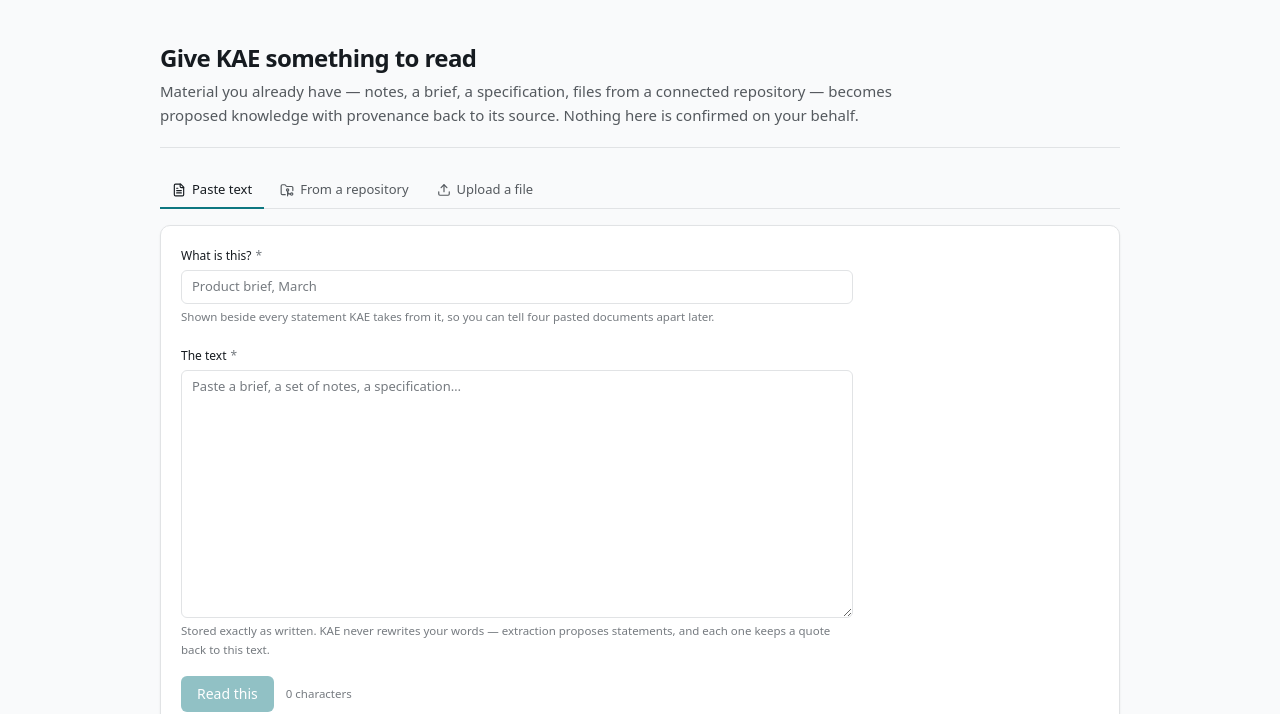
it: pasting a document › says the text is stored and the reading is not done
In the field labelled "What is this?*": point(517, 287) 181,270 -> 853,304, type "Brief"
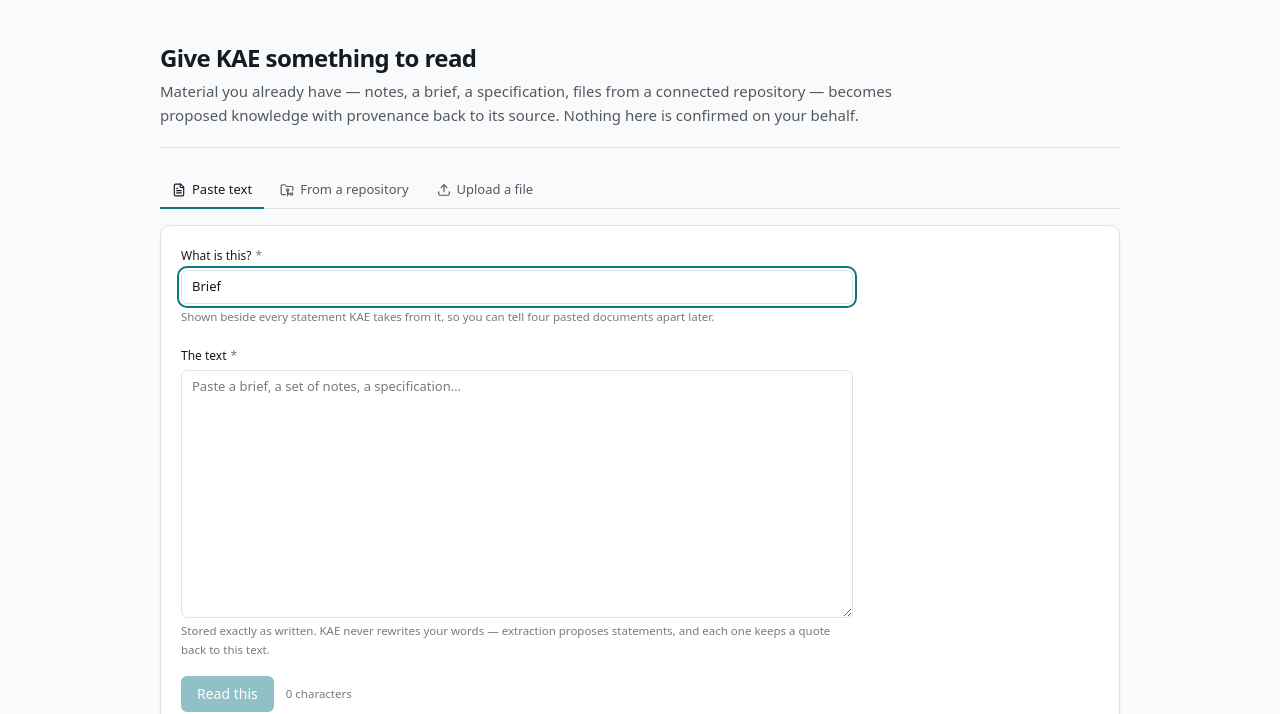
In the text box labelled "The text*": point(517, 494) 181,370 -> 853,618, type "Invoices go out weekly."
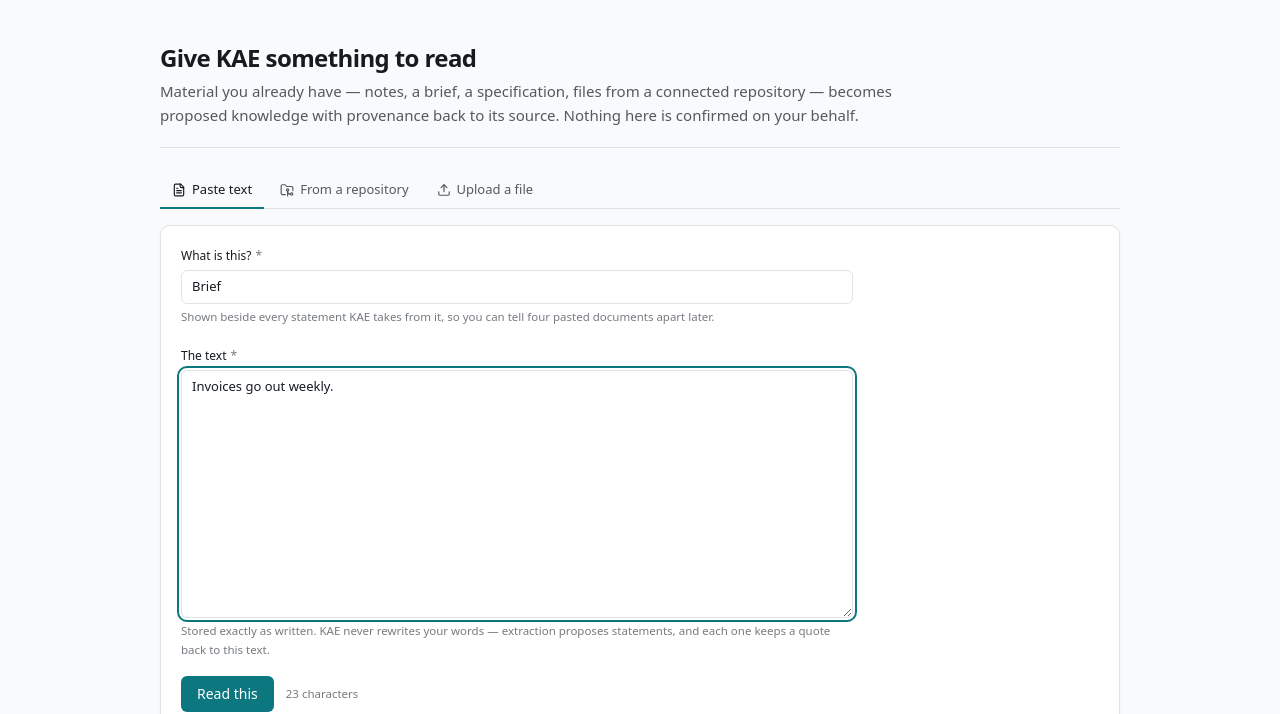
Click the button "Read this": point(227, 694) 181,676 -> 274,712
(page scrolled)
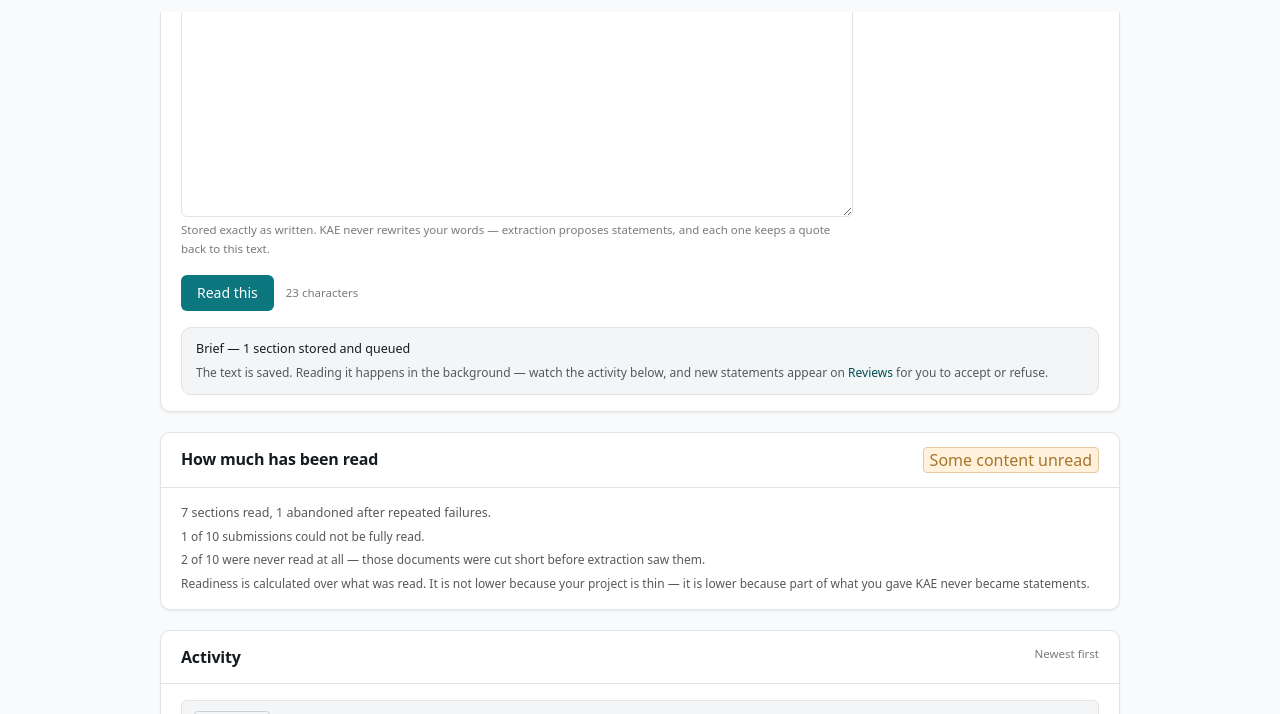
Result: the text "Brief — 1 section stored and queued" is shown at 196,340 -> 410,357
Result: the text "Reading it happens in the background" is shown at 196,364 -> 845,381
